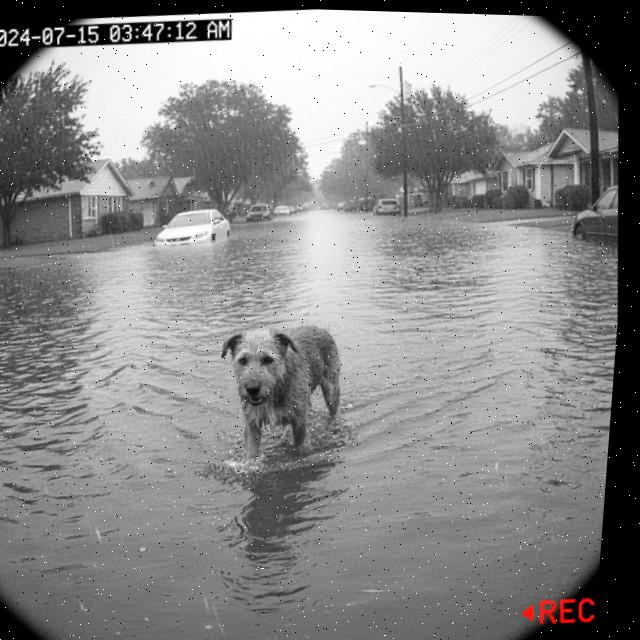dog: (194, 306, 369, 476)
